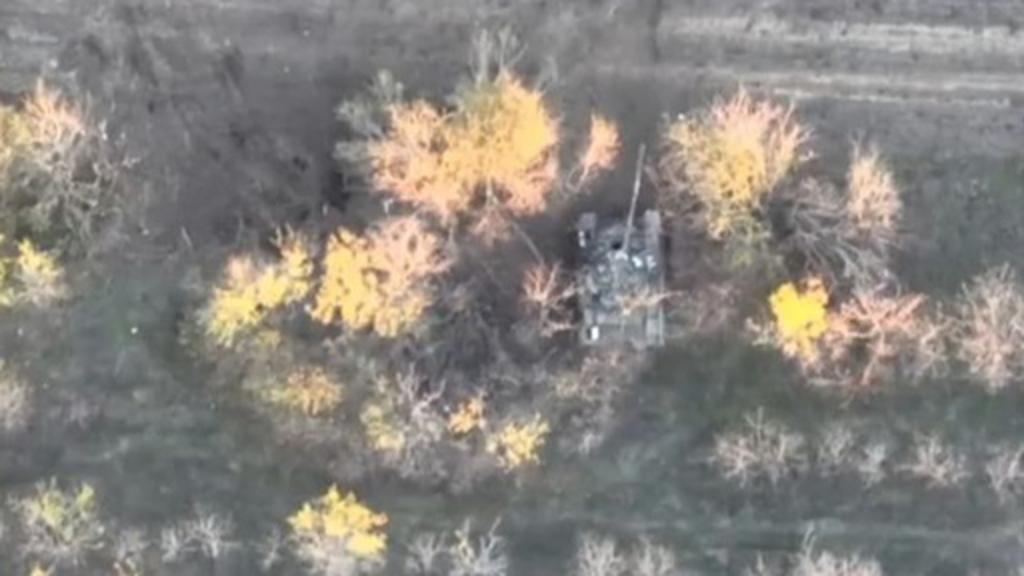TANK: (566, 140, 672, 362)
